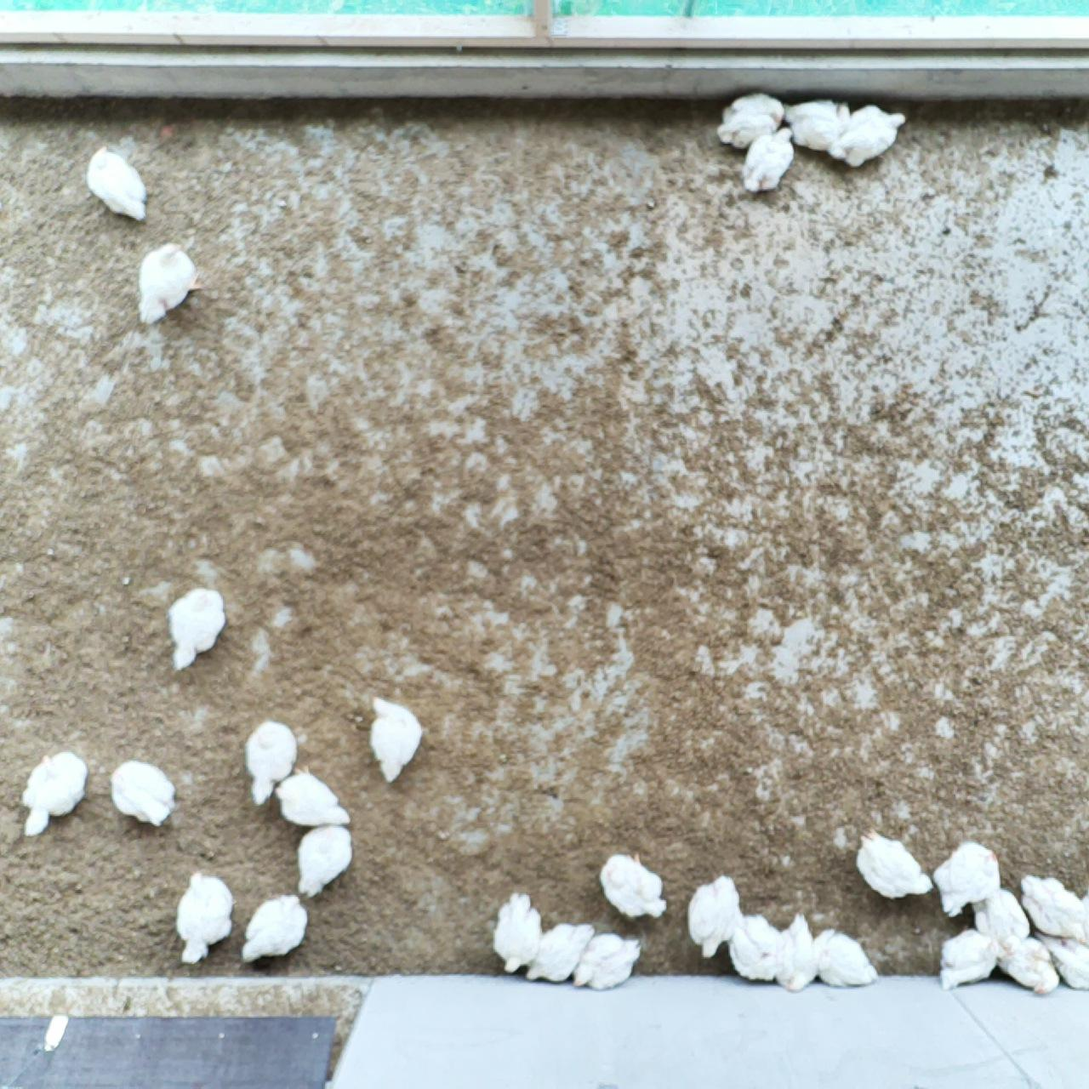chicken: (171, 866, 241, 971), (16, 748, 94, 842), (131, 234, 205, 331), (851, 825, 936, 903), (83, 142, 156, 228), (163, 583, 229, 676), (932, 839, 1005, 922), (365, 692, 430, 784), (271, 761, 354, 832), (239, 716, 301, 810), (683, 871, 747, 962), (105, 756, 181, 832), (241, 888, 310, 968), (712, 85, 788, 156), (833, 103, 910, 173), (598, 850, 671, 923), (1019, 872, 1089, 945), (489, 888, 545, 978), (810, 926, 883, 995), (523, 917, 596, 986), (970, 884, 1035, 961), (296, 819, 357, 900), (935, 921, 1002, 993), (724, 909, 787, 984), (994, 933, 1063, 1000), (769, 910, 824, 994), (781, 92, 851, 157), (576, 930, 646, 992), (738, 124, 797, 195), (1030, 927, 1089, 994)
